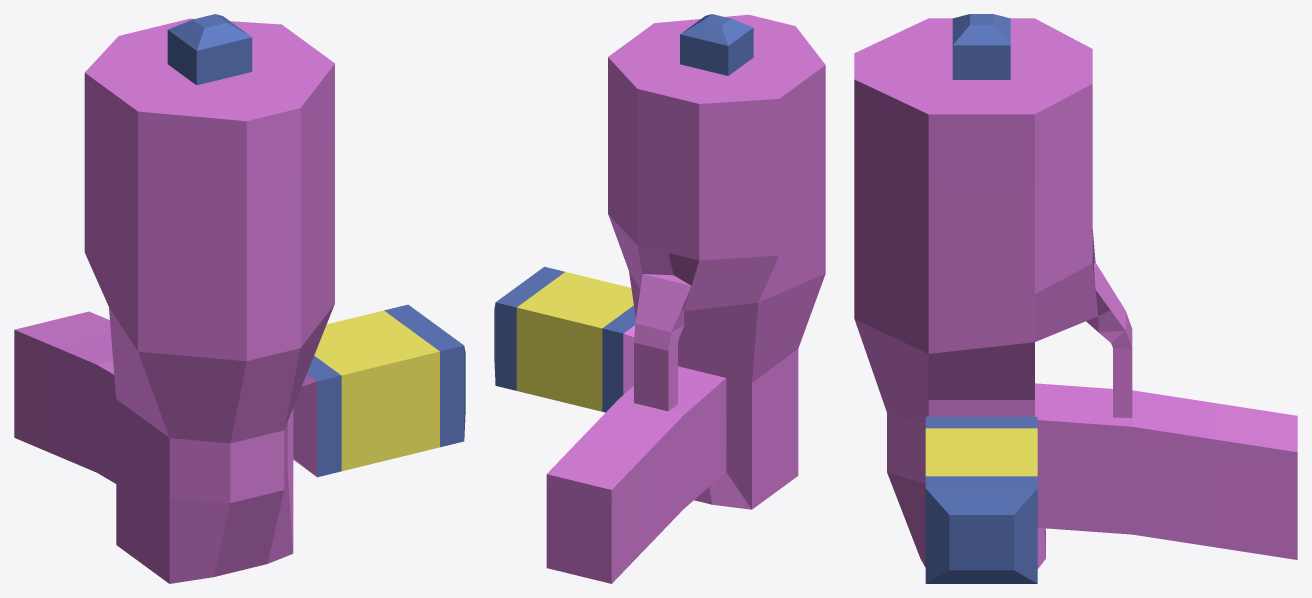
The model's file is Bubble gun.fbx.
The picture shows the model from 3 angles, left to right: view 1: azimuth 30°, elevation 25°; view 2: azimuth 150°, elevation 25°; view 3: azimuth 270°, elevation 25°; orthographic projection. The views are drawn at different scales.
Visible parts, largest first — view 1: BubbleGun; view 2: BubbleGun; view 3: BubbleGun.
Boxes of the visible parts, <box> form: BubbleGun: <box>14,14,465,583</box>; BubbleGun: <box>494,14,825,583</box>; BubbleGun: <box>854,14,1297,583</box>.
Bounding box in the file's own units: 192 × 286 × 218.
1 material, 1 textured.
